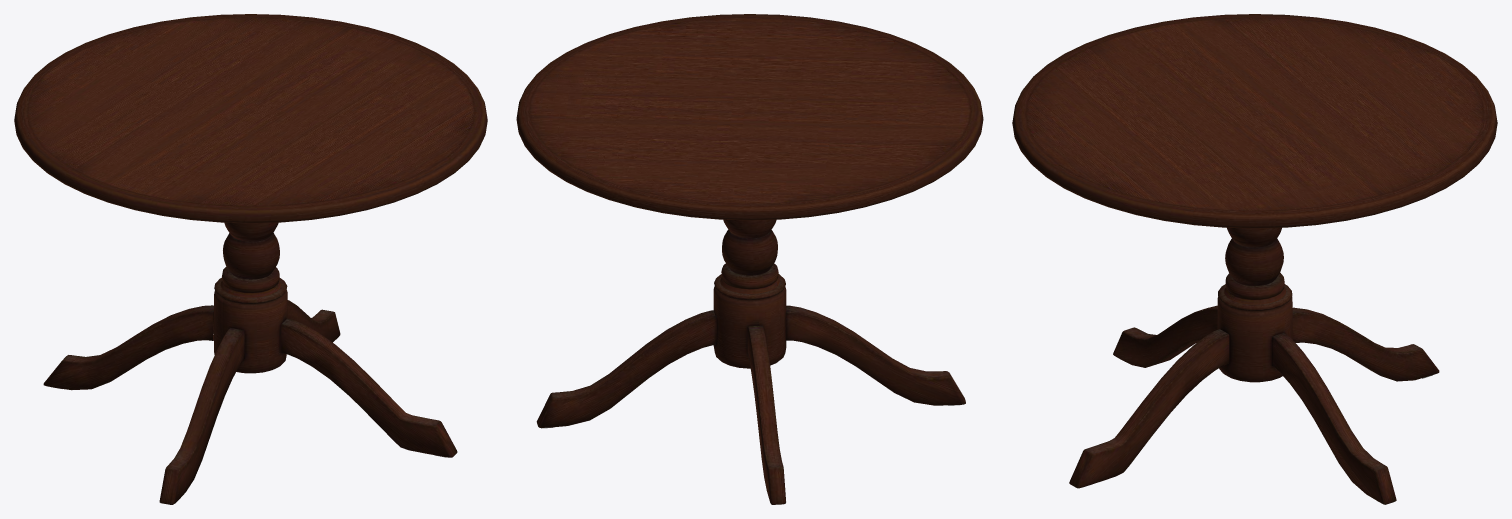
Rendered from round_wooden_table_01.glb.
3 views of the same model, side by side, from view 1: azimuth 30°, elevation 25°; view 2: azimuth 150°, elevation 25°; view 3: azimuth 270°, elevation 25° (orthographic). The views are drawn at different scales.
Visible parts, largest first — view 1: round_wooden_table_01; view 2: round_wooden_table_01; view 3: round_wooden_table_01.
Part boxes in pixels (box(x1,y1,x2,y2)): round_wooden_table_01: box(14, 14, 487, 504); round_wooden_table_01: box(516, 14, 983, 504); round_wooden_table_01: box(1012, 14, 1497, 504).
Size of the model in its own units: 1.4 by 1 by 1.4.
1 material, 1 textured.
